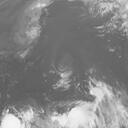cyclone: (39, 30, 87, 84)
